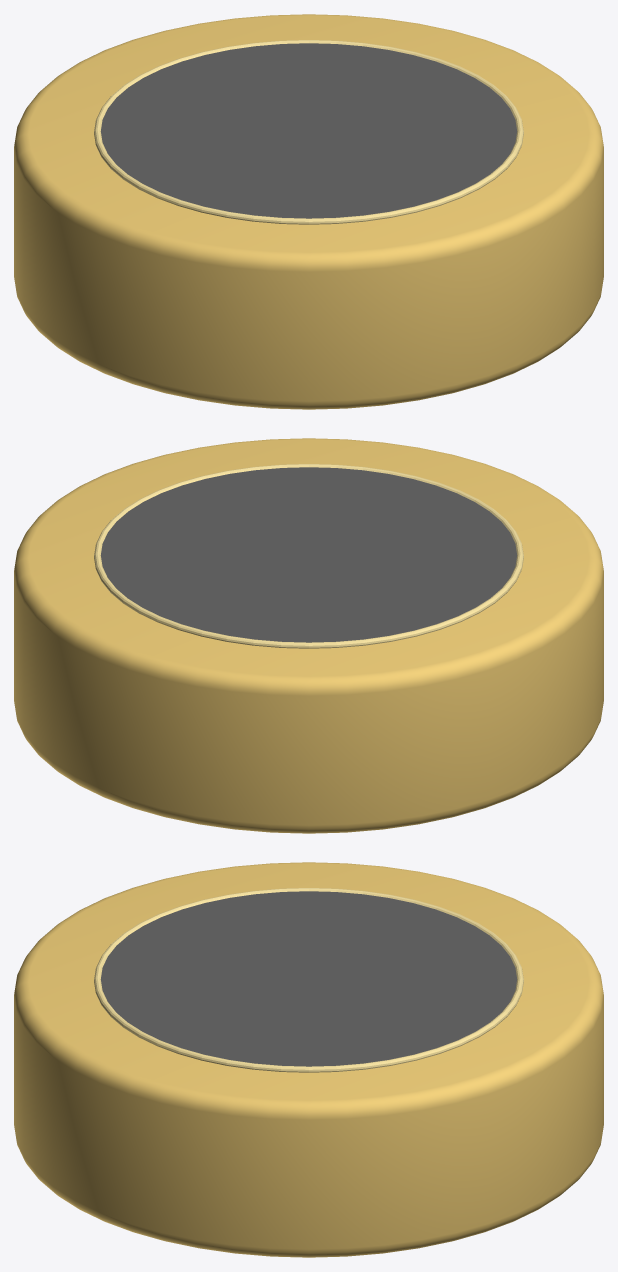
Rendered from cheese_wheel.glb.
3 views of the same model, one above another, from view 1: azimuth 30°, elevation 25°; view 2: azimuth 150°, elevation 25°; view 3: azimuth 270°, elevation 25° (orthographic).
Visible parts, largest first — view 1: CheeseWheel, GoldLabel, GoldRing; view 2: CheeseWheel, GoldLabel, GoldRing; view 3: CheeseWheel, GoldLabel, GoldRing.
Boxes of the visible parts, left/top/right/bottom form: CheeseWheel: left=14, top=14, right=603, bottom=409; GoldLabel: left=100, top=43, right=517, bottom=218; GoldRing: left=94, top=40, right=523, bottom=224; CheeseWheel: left=14, top=438, right=603, bottom=833; GoldLabel: left=100, top=467, right=517, bottom=642; GoldRing: left=94, top=464, right=523, bottom=648; CheeseWheel: left=14, top=862, right=603, bottom=1257; GoldLabel: left=100, top=891, right=517, bottom=1066; GoldRing: left=94, top=888, right=523, bottom=1072.
Bounding box in the file's own units: 2.4 × 0.72 × 2.4.
